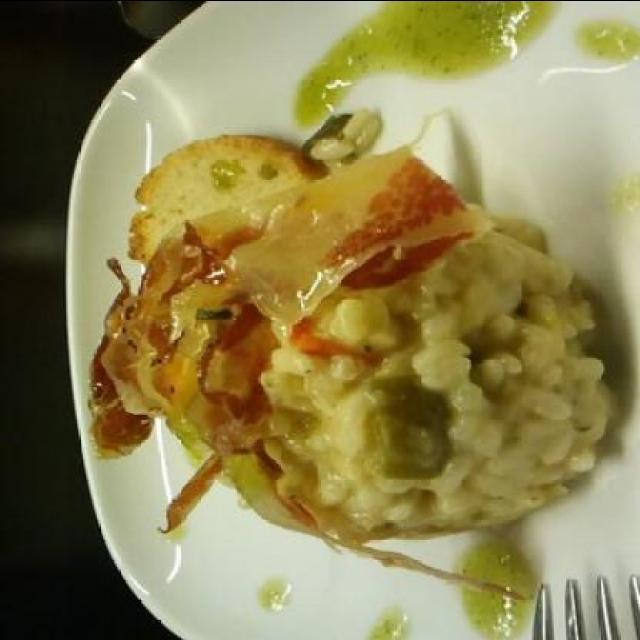Risotto: (195, 80, 617, 577)
